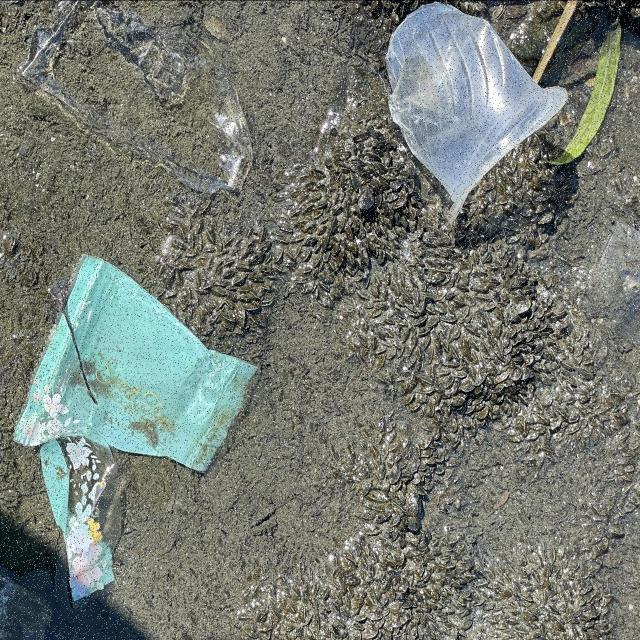plastic_waste: (18, 259, 262, 611), (388, 1, 570, 208)
